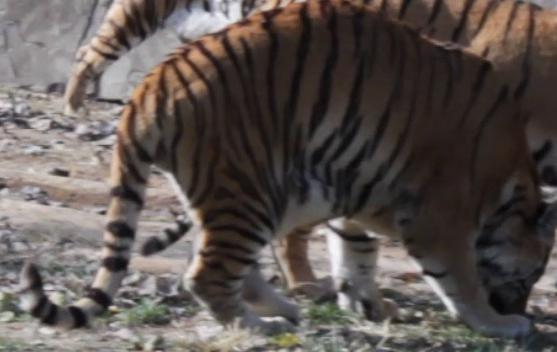tiger: (93, 0, 556, 335)
